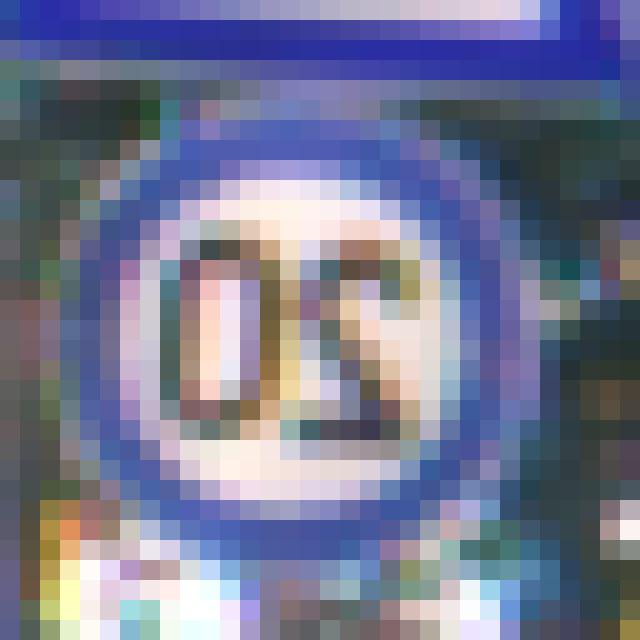SPEED LIMIT 20: (82, 115, 510, 552)
